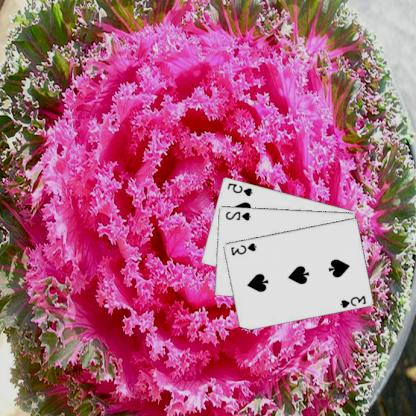2S: (224, 209, 254, 221)
3S: (230, 240, 259, 257), (339, 293, 369, 309)
5S: (226, 180, 255, 197)
